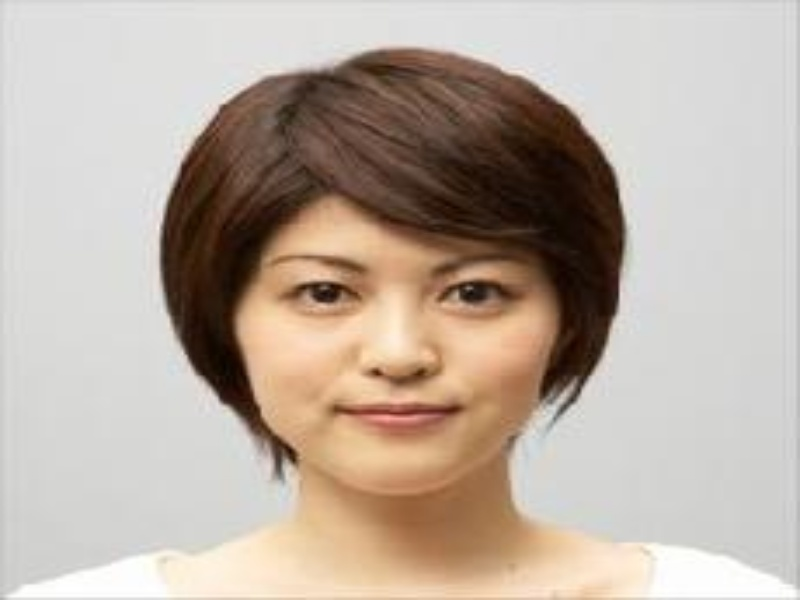face: (246, 205, 551, 468)
